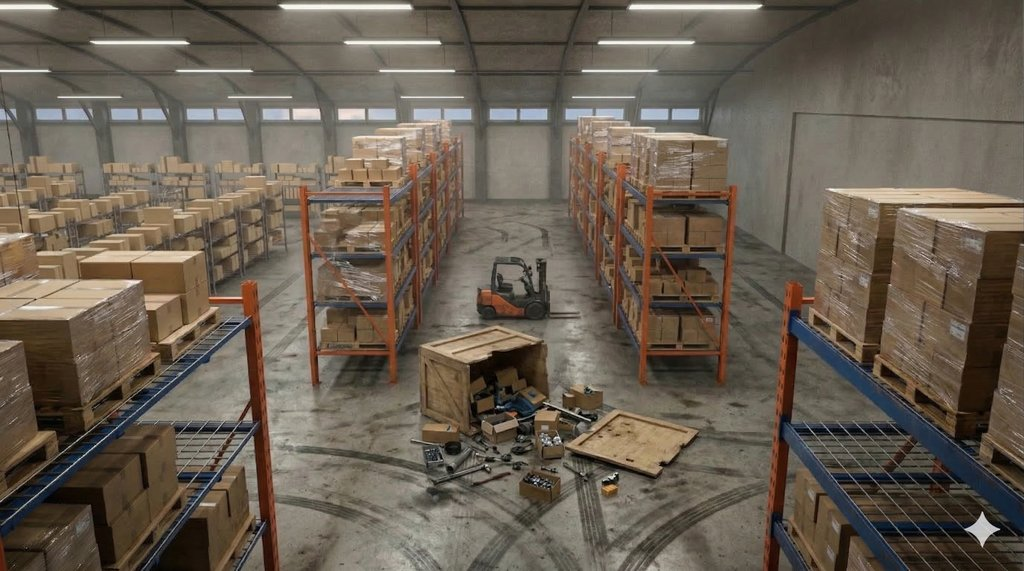empty_shelf: (778, 412, 1018, 569), (131, 408, 262, 484), (314, 185, 411, 208)
forklift: (470, 246, 592, 334)
obstacle: (404, 318, 719, 519)
pallet: (868, 348, 979, 450), (80, 345, 180, 425), (165, 301, 250, 364), (795, 305, 881, 363), (972, 429, 1017, 494)
